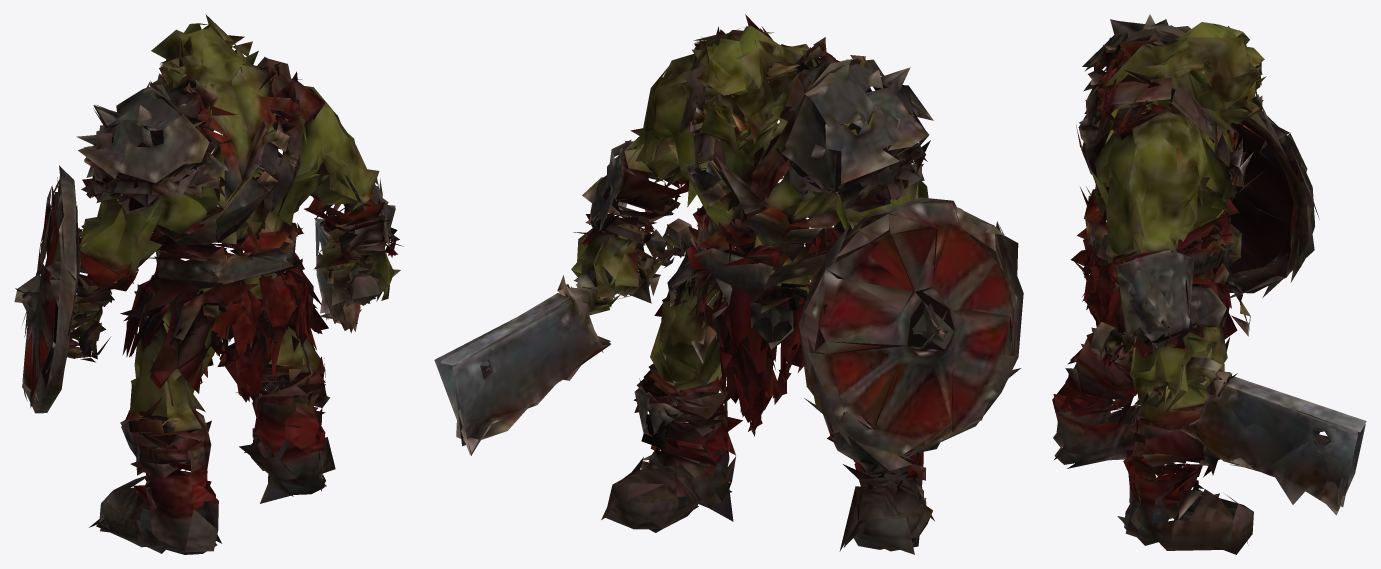
Rendered from orcs.lod1.glb.
3 renders of one model, left to right at view 1: azimuth 30°, elevation 25°; view 2: azimuth 150°, elevation 25°; view 3: azimuth 270°, elevation 25°, orthographic. The views are drawn at different scales.
Parts seen in each view (by area): view 1: orcs; view 2: orcs; view 3: orcs.
Part boxes in pixels (left/top/right/bottom): orcs: left=14, top=14, right=403, bottom=554; orcs: left=434, top=14, right=1023, bottom=554; orcs: left=1052, top=14, right=1366, bottom=554.
Size of the model in its own units: 0.4739 by 0.5169 by 0.3036.
Materials: 1 (1 with a texture image).
